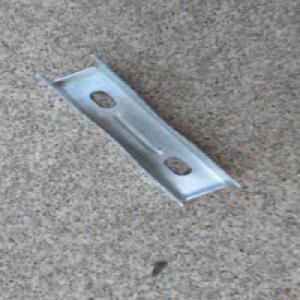ClampPart: (32, 52, 244, 210)
